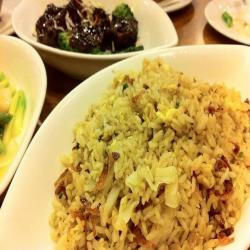rice: (73, 72, 247, 250)
